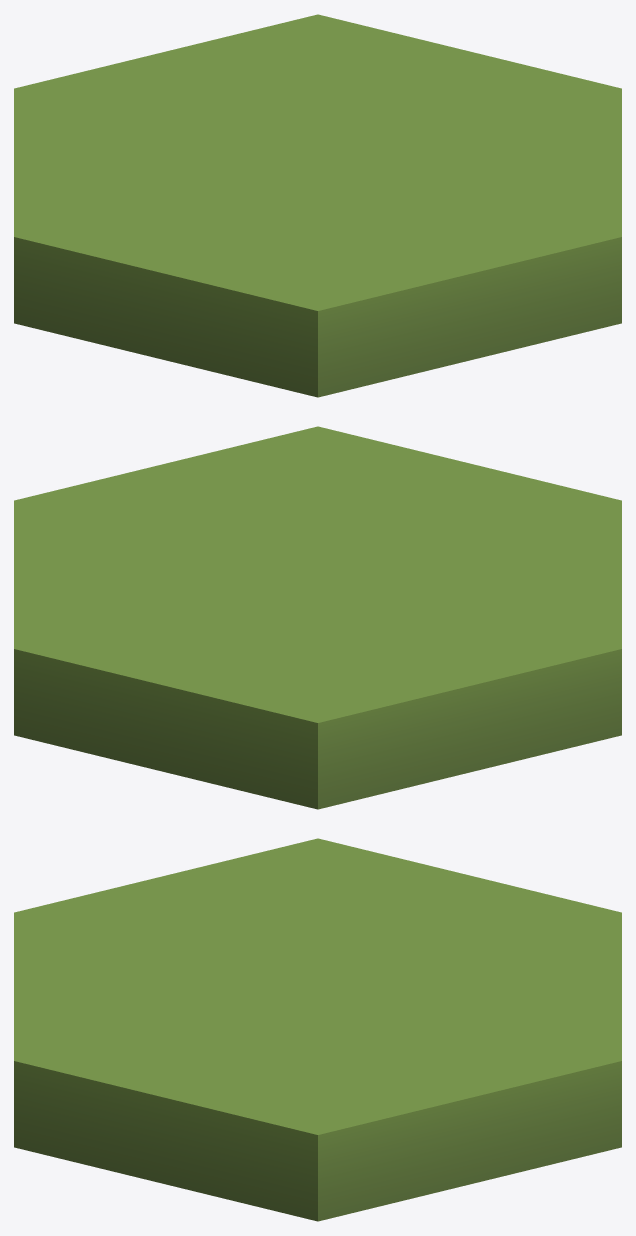
File: lowpoly_small_spot_green.fbx
The picture shows the model from 3 angles, top to bottom: view 1: azimuth 30°, elevation 25°; view 2: azimuth 150°, elevation 25°; view 3: azimuth 270°, elevation 25°; orthographic projection.
Visible parts, largest first — view 1: lowpoly_small_spot_green; view 2: lowpoly_small_spot_green; view 3: lowpoly_small_spot_green.
Boxes of the visible parts, left/top/right/bottom form: lowpoly_small_spot_green: left=14, top=14, right=621, bottom=397; lowpoly_small_spot_green: left=14, top=426, right=621, bottom=809; lowpoly_small_spot_green: left=14, top=838, right=621, bottom=1221.
Bounding box in the file's own units: 165 × 22.37 × 143.
Materials: 1 (1 with a texture image).
